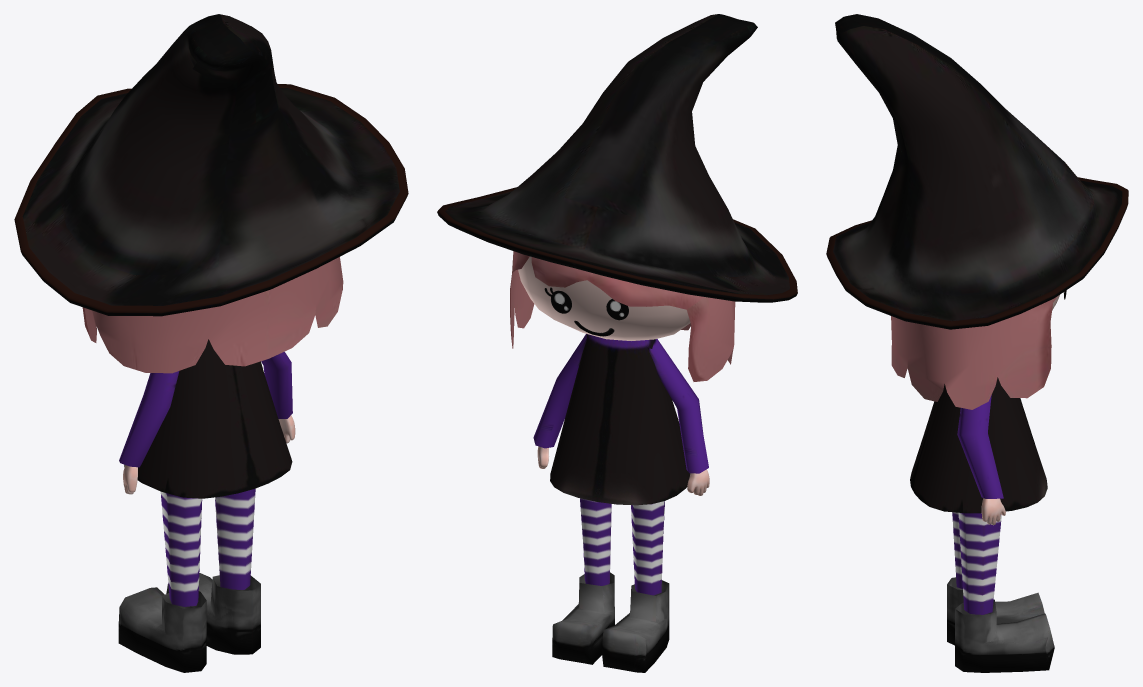
File: bruxa.glb
3 renders of one model, left to right at view 1: azimuth 30°, elevation 25°; view 2: azimuth 150°, elevation 25°; view 3: azimuth 270°, elevation 25°, orthographic. The views are drawn at different scales.
Visible parts, largest first — view 1: cabeca; view 2: cabeca; view 3: cabeca.
Boxes of the visible parts, left/top/right/bottom form: cabeca: left=14, top=14, right=408, bottom=672; cabeca: left=437, top=14, right=797, bottom=672; cabeca: left=826, top=14, right=1128, bottom=672.
Size of what is drawn, in the model's own units: 1.41 by 2.48 by 1.12.
2 materials, 2 textured.
